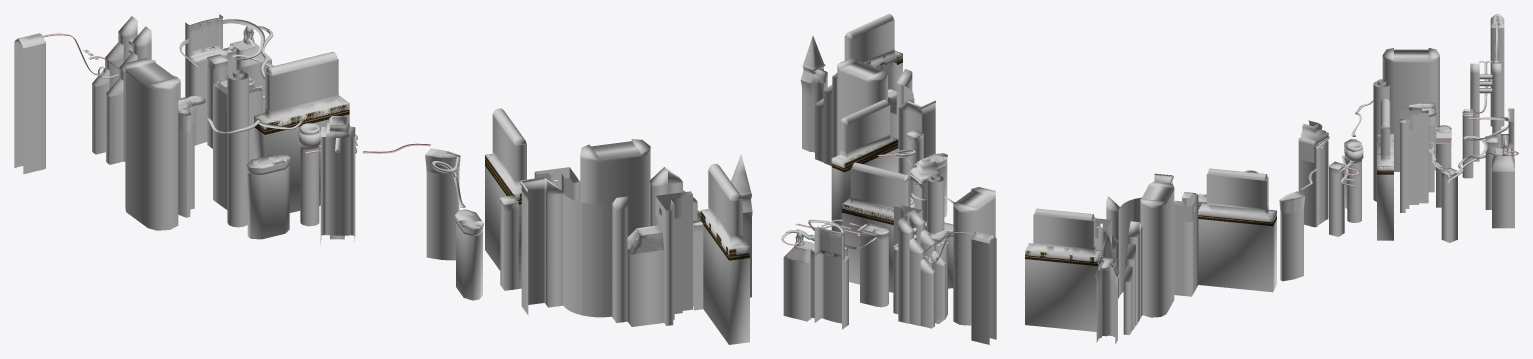
The model's file is highway.fbx.
3 views of the same model, side by side, from view 1: azimuth 30°, elevation 25°; view 2: azimuth 150°, elevation 25°; view 3: azimuth 270°, elevation 25° (orthographic). The views are drawn at different scales.
Visible parts, largest first — view 1: part1; view 2: part1; view 3: part1.
Boxes of the visible parts, x1,y1,x2,y2 form: part1: [14, 14, 752, 344]; part1: [781, 14, 996, 344]; part1: [1025, 14, 1518, 344].
Size of the model in its own units: 1138532 by 436100 by 1288256.
